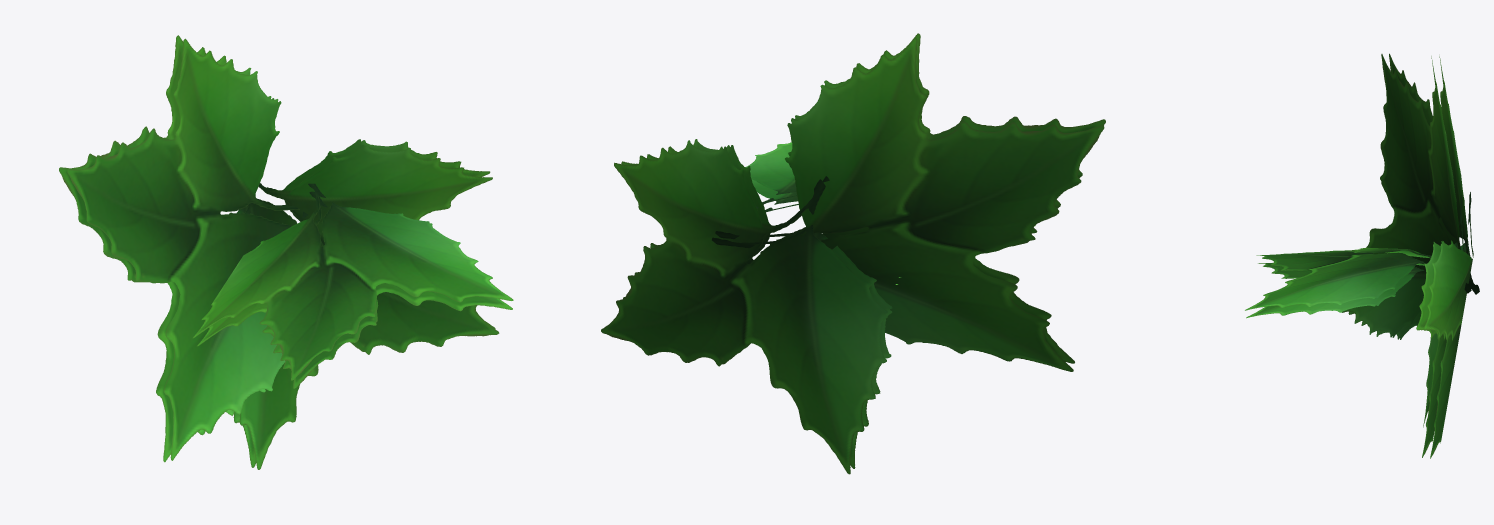
Rendered from SE_Rose_19.fbx.
3 views of the same model, side by side, from view 1: azimuth 30°, elevation 25°; view 2: azimuth 150°, elevation 25°; view 3: azimuth 270°, elevation 25° (orthographic). The views are drawn at different scales.
Parts seen in each view (by area): view 1: SE_Rose_19; view 2: SE_Rose_19; view 3: SE_Rose_19.
Part boxes in pixels (bbox=[...]): SE_Rose_19: bbox=[59, 35, 513, 469]; SE_Rose_19: bbox=[601, 33, 1105, 474]; SE_Rose_19: bbox=[1245, 53, 1479, 458].
Bounding box in the file's own units: 1.51 × 1.33 × 0.8165.
